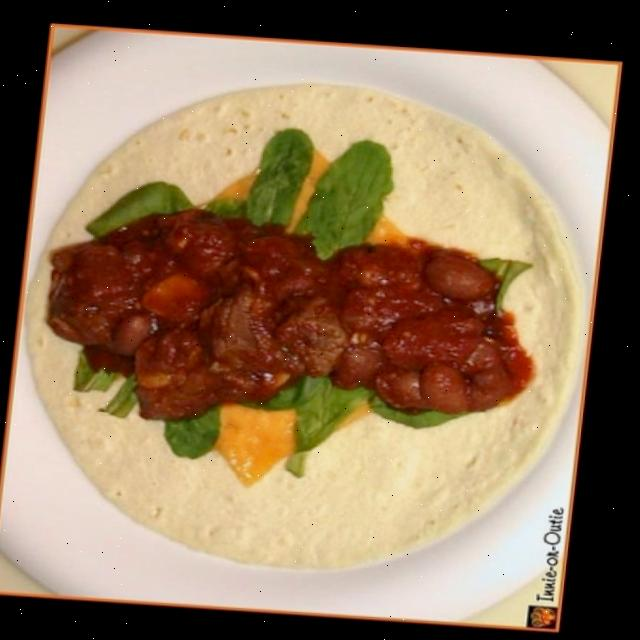面包点心: (30, 62, 585, 582)
